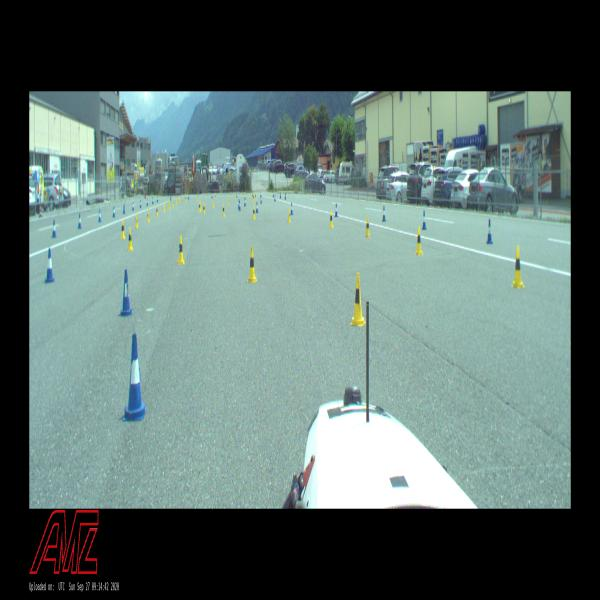blue_cone: (125, 334, 145, 419), (121, 270, 132, 316), (46, 249, 54, 283), (486, 219, 492, 244), (422, 210, 427, 229), (52, 220, 56, 237), (382, 206, 386, 221), (78, 215, 81, 228), (335, 203, 338, 216), (98, 210, 101, 222), (291, 203, 293, 214), (256, 202, 258, 213), (239, 201, 241, 211), (113, 207, 115, 217), (123, 204, 125, 214), (260, 196, 262, 204), (132, 202, 134, 210), (152, 197, 154, 204), (170, 194, 172, 200), (236, 192, 238, 198), (260, 191, 262, 197), (238, 198, 239, 208), (140, 200, 141, 208), (245, 198, 246, 206), (285, 192, 286, 200), (147, 198, 148, 206), (273, 191, 274, 198), (280, 191, 281, 198), (274, 194, 275, 200), (157, 196, 158, 202), (188, 194, 189, 200), (212, 192, 212, 198)
large_orange_cone: (39, 200, 42, 217)
yellow_cone: (352, 272, 364, 324), (512, 246, 522, 288), (248, 247, 256, 282), (178, 236, 185, 264), (416, 226, 422, 255), (128, 228, 133, 250), (366, 216, 370, 237), (121, 220, 125, 239), (329, 210, 333, 228), (287, 208, 291, 222), (252, 206, 256, 219), (135, 213, 138, 229), (147, 209, 150, 222), (222, 205, 225, 216), (156, 206, 158, 217), (164, 202, 166, 212), (168, 201, 170, 209), (185, 194, 187, 202), (215, 193, 217, 200), (253, 194, 255, 201), (172, 199, 174, 206), (234, 193, 236, 199), (204, 203, 205, 214), (201, 200, 202, 210), (199, 202, 200, 211), (213, 200, 214, 208), (176, 198, 177, 206), (179, 196, 180, 204), (228, 198, 229, 205), (255, 193, 256, 200), (197, 194, 198, 201), (245, 195, 246, 202), (252, 193, 253, 199)
